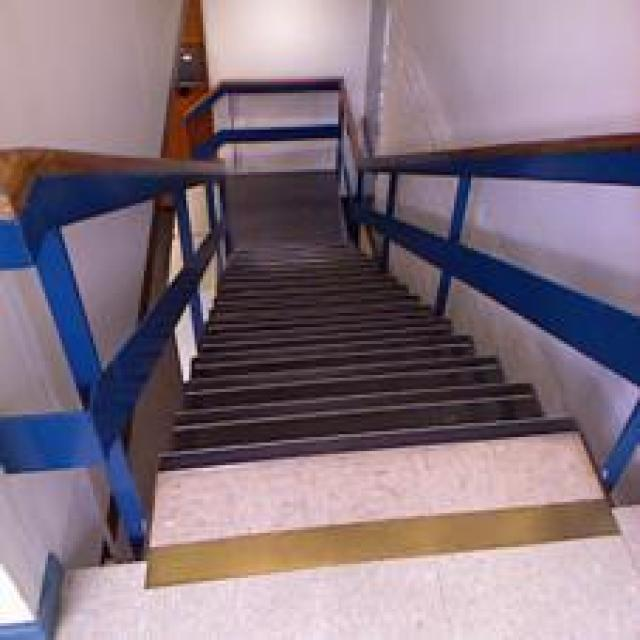downstair: (133, 373, 613, 531)
